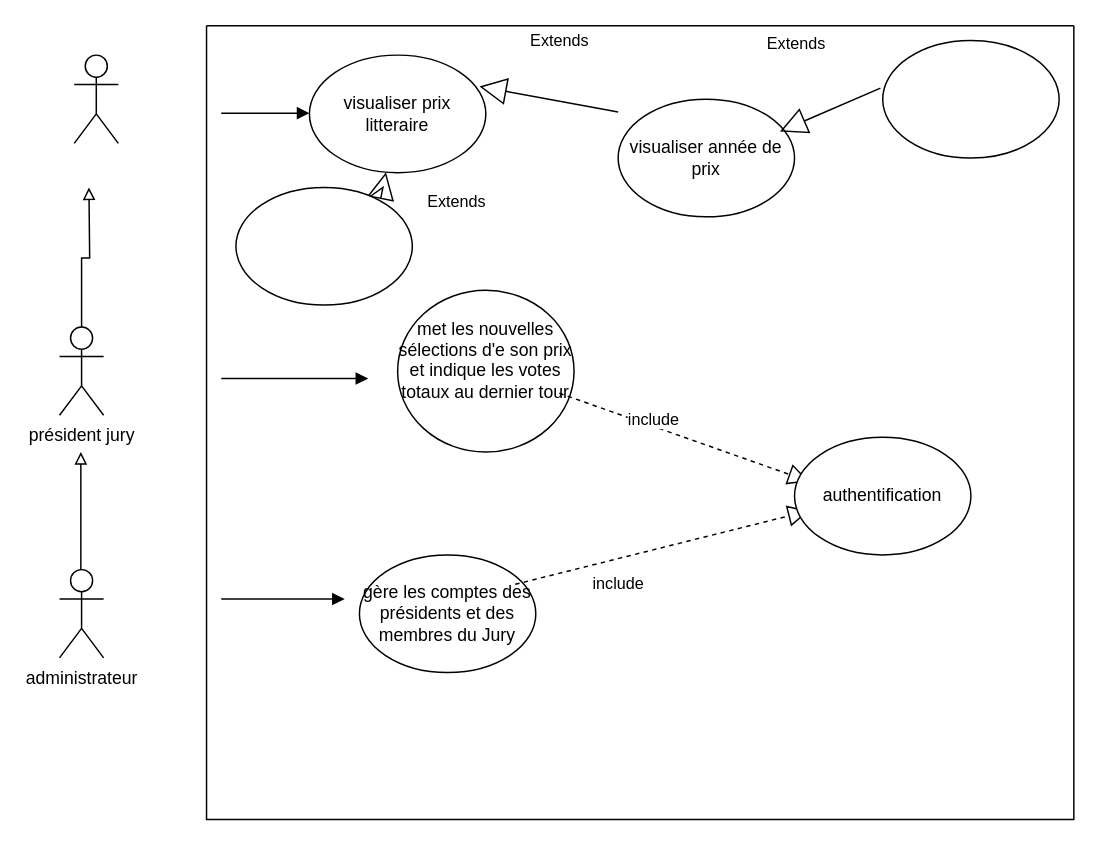
This 1100x845 diagram has some shape labels left out. The box of each missing label's shape, as (x1, y1, x2, y2) in pixels:
visiteur: (73, 54, 118, 143)
visualiser jurys: (234, 186, 412, 305)
visualiser livres et selection: (881, 39, 1059, 158)
